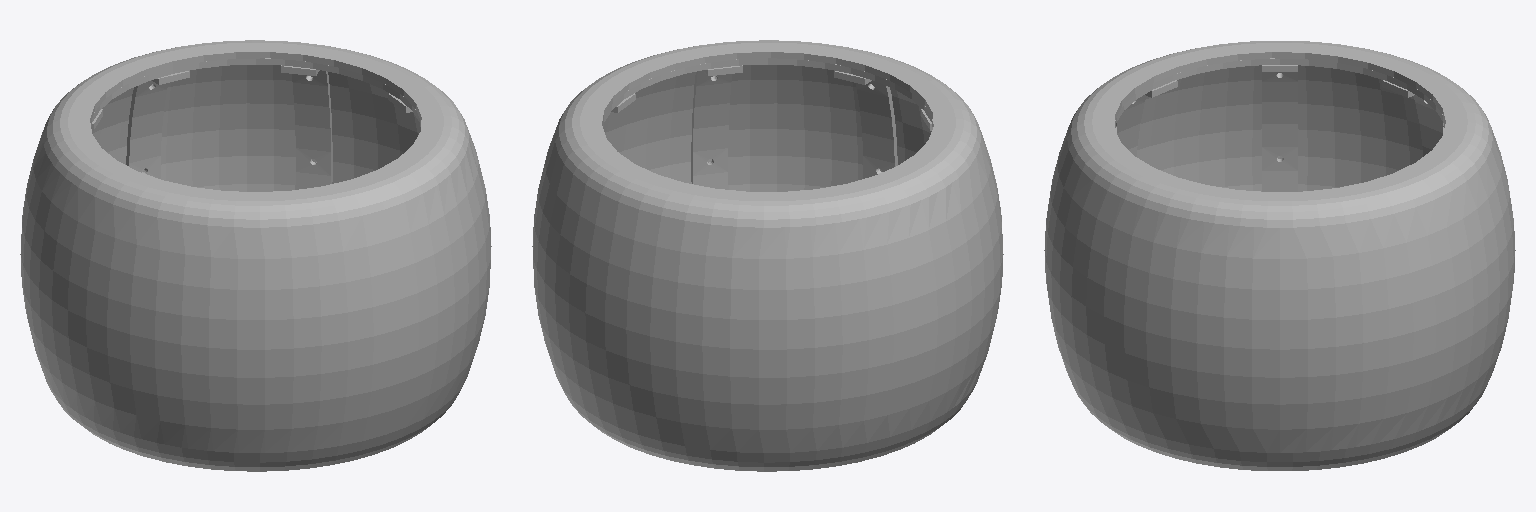
robot.urdf — root:
<?xml version='1.0' encoding='utf-8'?>
<robot name="root">
  <link name="link_001">
    <visual>
      <origin xyz="0 0 0" rpy="0 0 0" />
      <geometry>
        <mesh filename="8feb44f705467ce5aa18a6fc4242f9ffa1bdc1d87286ed20ab37c9e66f4a4d1a_scale_052.stl" scale="1.0000E+00 1.0000E+00 1.0000E+00" />
      </geometry>
      <material name="">
        <color rgba="7.50E-01 7.50E-01 7.50E-01 1" />
      </material>
    </visual>
    <collision>
      <origin xyz="0 0 0" rpy="0 0 0" />
      <geometry>
        <mesh filename="8feb44f705467ce5aa18a6fc4242f9ffa1bdc1d87286ed20ab37c9e66f4a4d1a_scale_052.stl" scale="1.0000E+00 1.0000E+00 1.0000E+00" />
      </geometry>
    </collision>
  </link>
</robot>

--- Render facts (derived) ---
3 views of the same robot in one strip: view 1: azimuth 30°, elevation 25°; view 2: azimuth 150°, elevation 25°; view 3: azimuth 270°, elevation 25° (orthographic).
Robot: root — 1 links, 0 joints (none); root link link_001; default pose: every joint at zero.
Links seen in each view (by area): view 1: link_001; view 2: link_001; view 3: link_001.
Link boxes in pixels (<box>): link_001: <box>20,40,491,471</box>; link_001: <box>532,40,1003,471</box>; link_001: <box>1044,41,1515,470</box>.
Size in the robot's own frame: 0.1102 by 0.1102 by 0.0691 metres.
1 mesh visuals loaded from 1 distinct referenced files (1 binary STL).
